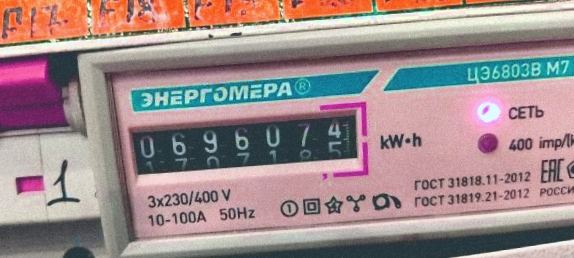0: (136, 133, 157, 159), (262, 121, 281, 148)
4: (324, 116, 342, 139)
5: (326, 139, 343, 160)
6: (230, 123, 250, 151), (168, 129, 187, 156)
7: (294, 120, 312, 147)
9: (200, 126, 217, 153)
screen: (117, 98, 374, 195)
